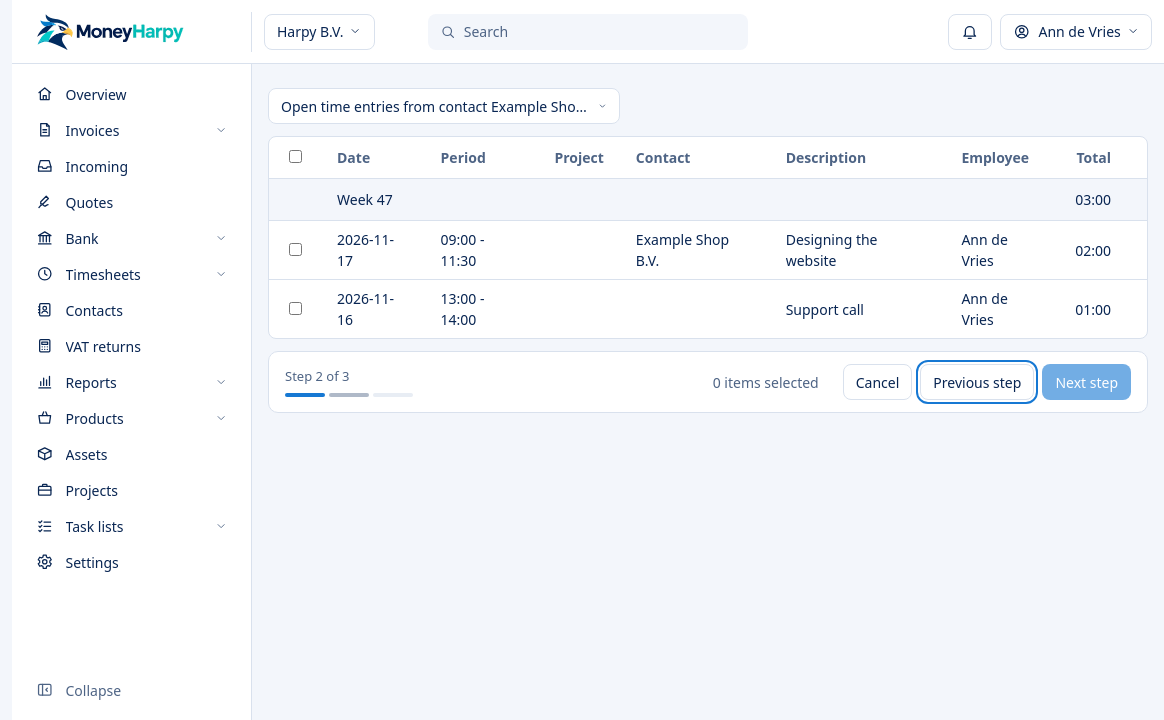
Test: billing time entries › bills the chosen open time of a contact on a new invoice, merged into one line
This screenshot has width=1164, height=720.
Earlier steps of the test are not shown.
Expected: the column heading "Week 47" is shown, [321, 179, 1059, 220]
Expected: the message reads "0 items selected", [713, 372, 819, 392]
Click the checkbox named "Select all" at coordinates (296, 156), box [289, 150, 302, 163]
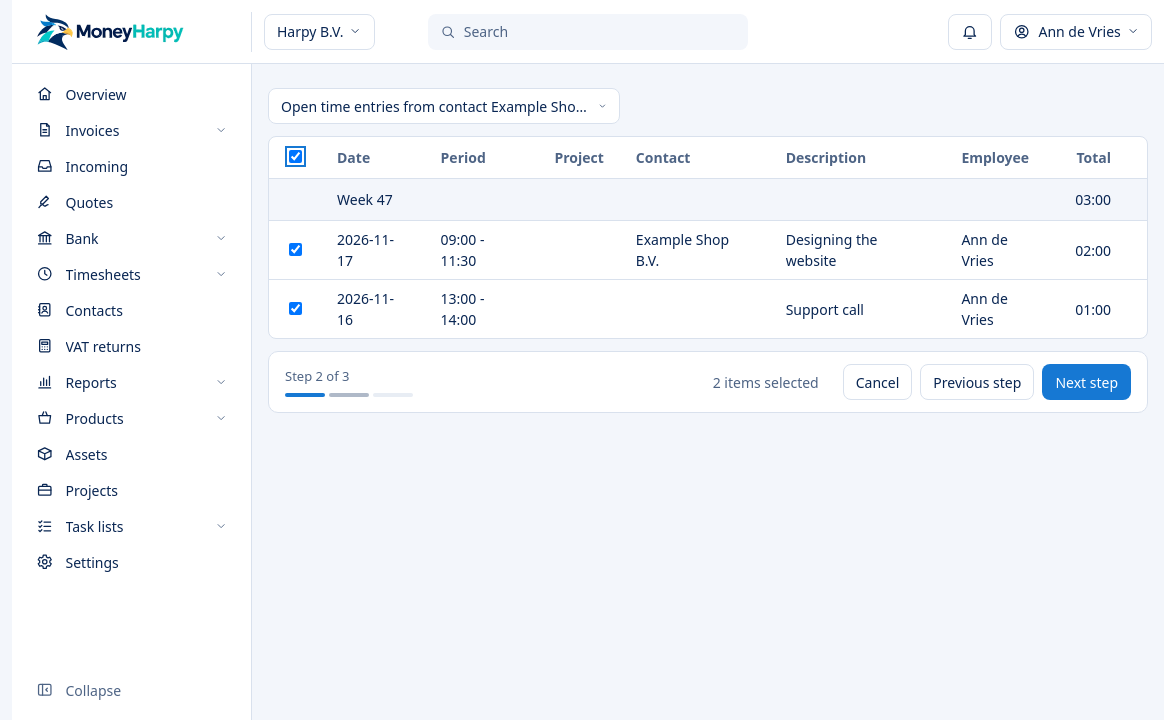
Expected: the message reads "2 items selected", [713, 372, 819, 392]
Click the button "Next step" at coordinates (1087, 382), box [1042, 364, 1131, 400]
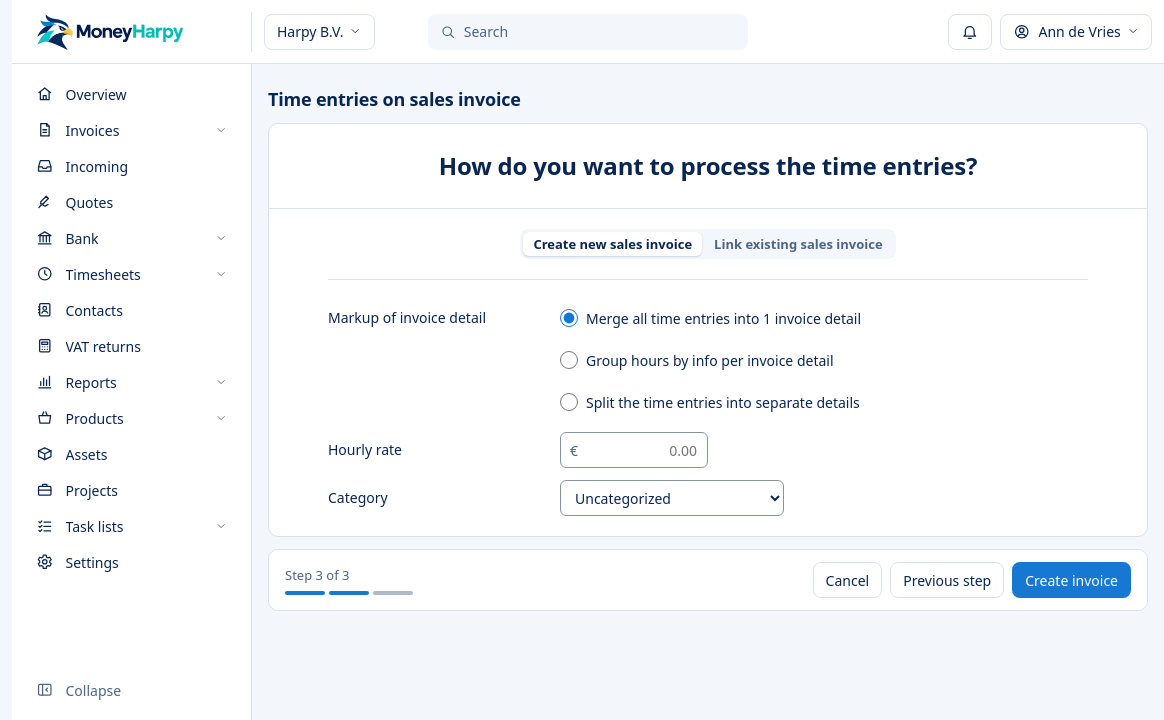
Click the field labelled "Hourly rate" at coordinates (634, 450), box [560, 432, 708, 468]
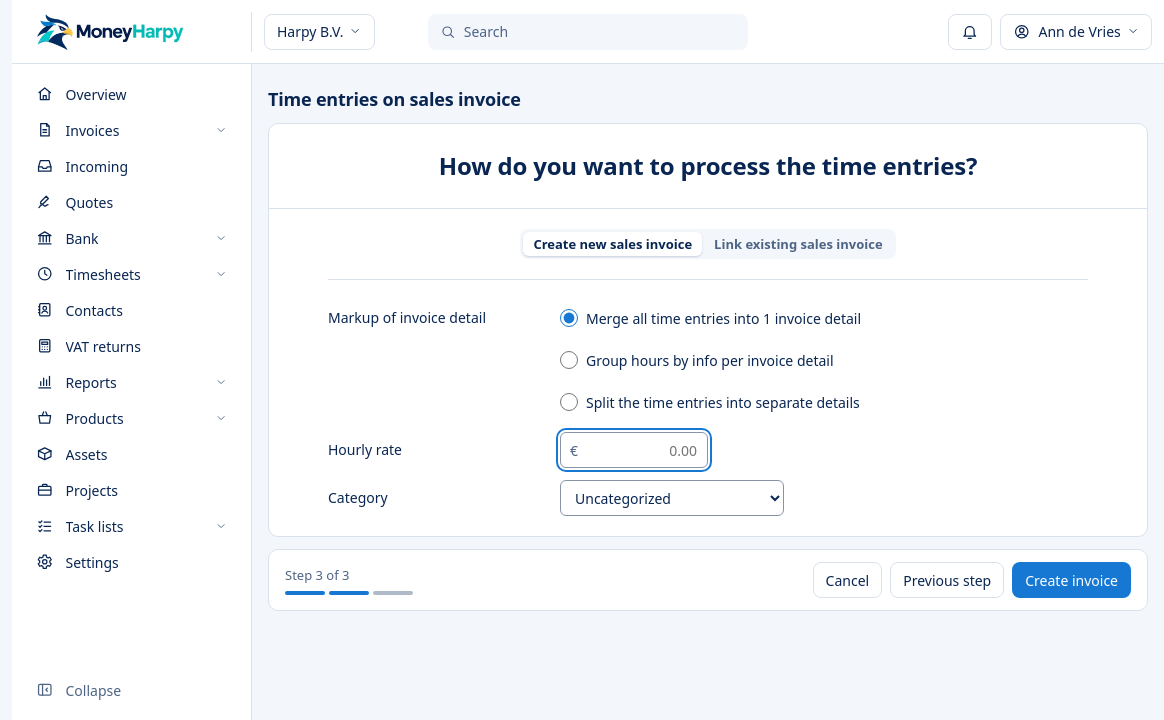
Type keys "80"
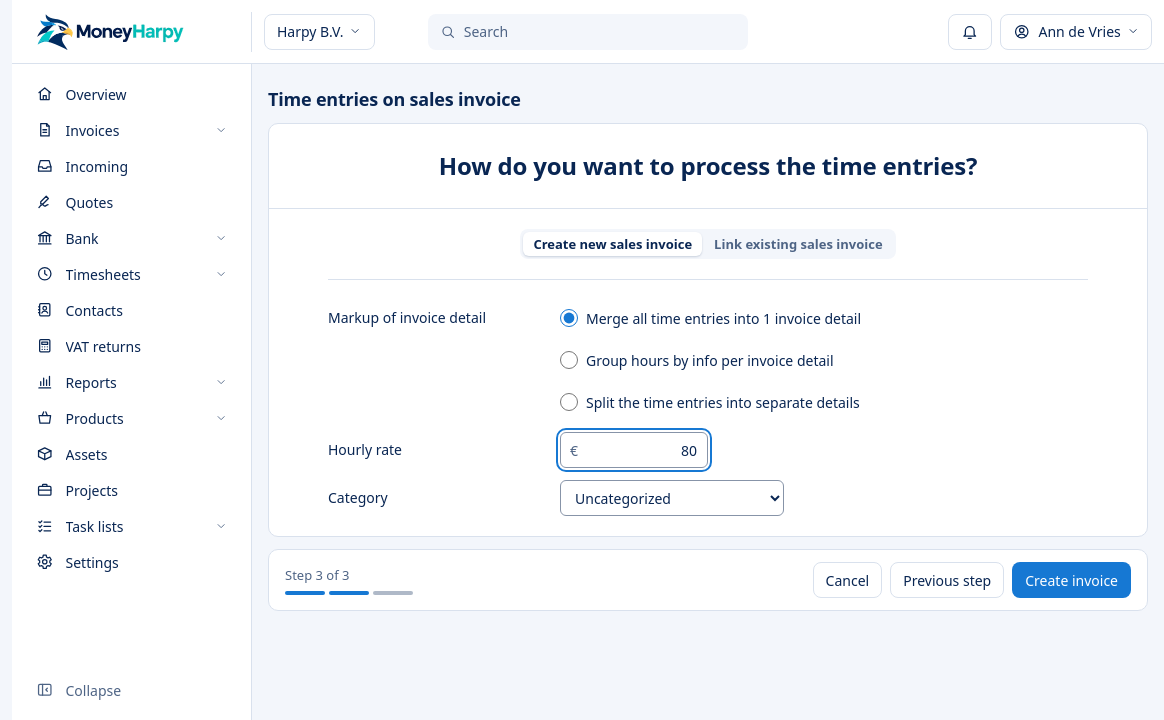
Select "Revenue" in the dropdown labelled "Category" at coordinates (672, 498), box [560, 480, 784, 516]
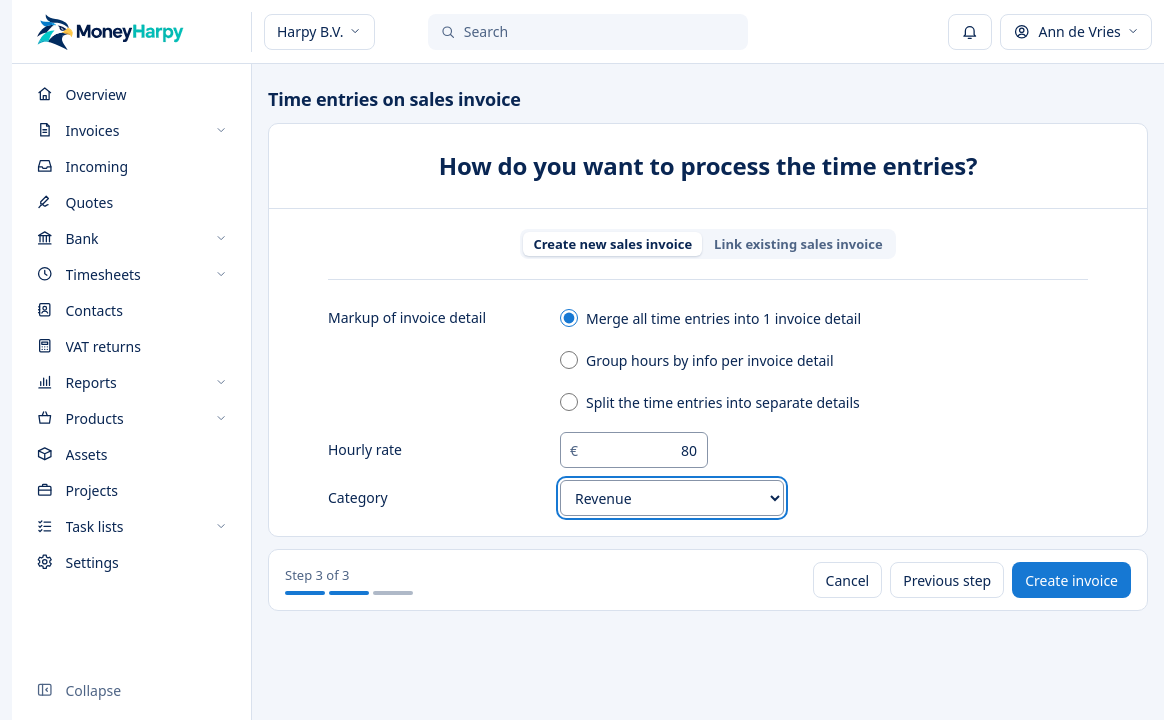
Expected: the button "Create invoice" is enabled
Click the button "Create invoice" at coordinates (1072, 580), box [1012, 562, 1131, 598]
(page scrolled)
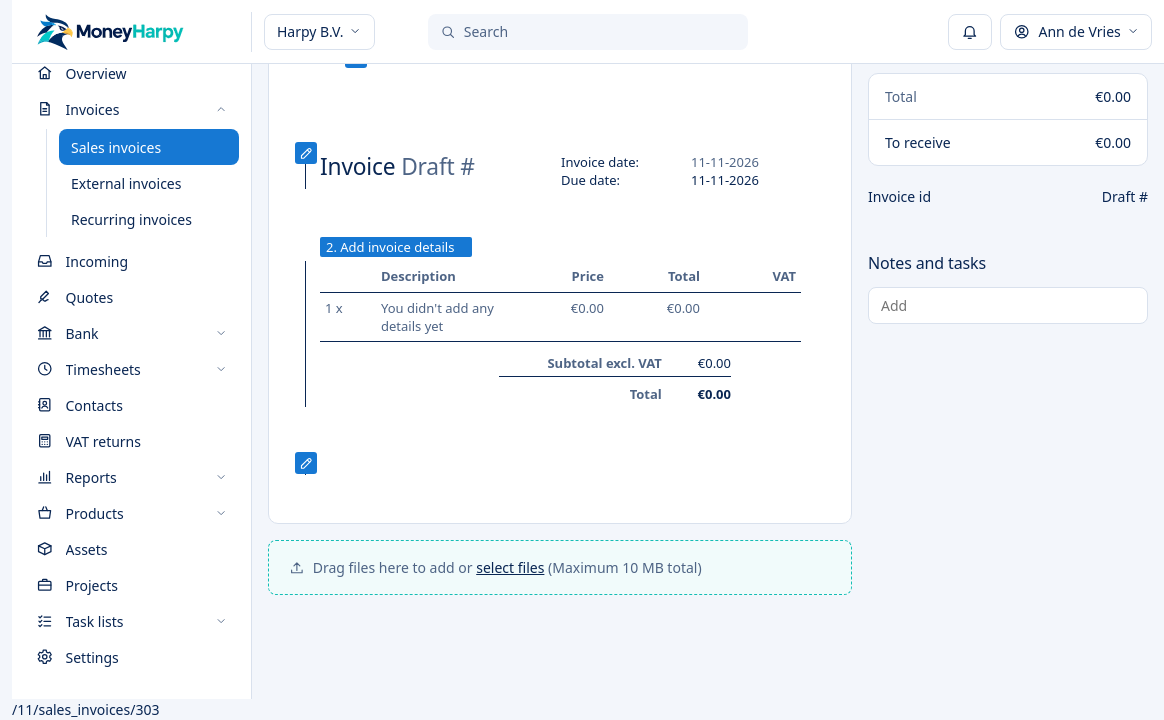
Expected: the text with test id "path" reads "/11/sales_invoices/303", [12, 700, 159, 719]
